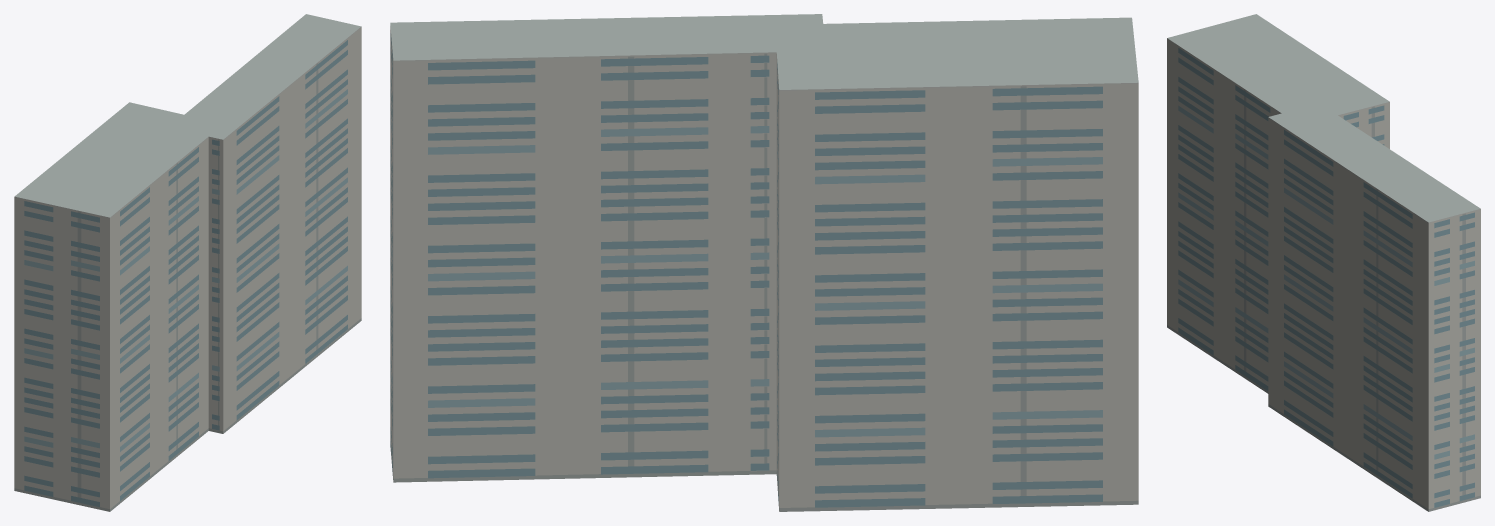
Rendered from survey-upis-32906846.glb.
The picture shows the model from 3 angles, left to right: view 1: azimuth 30°, elevation 25°; view 2: azimuth 150°, elevation 25°; view 3: azimuth 270°, elevation 25°; orthographic projection. The views are drawn at different scales.
Parts seen in each view (by area): view 1: survey-upis-32906846.tmp; view 2: survey-upis-32906846.tmp; view 3: survey-upis-32906846.tmp.
Part boxes in pixels (x1=…): survey-upis-32906846.tmp: x1=14, y1=14, x2=361, y2=511; survey-upis-32906846.tmp: x1=390, y1=14, x2=1138, y2=511; survey-upis-32906846.tmp: x1=1167, y1=14, x2=1480, y2=511.
Bounding box in the file's own units: 141 × 91.5 × 89.95.
